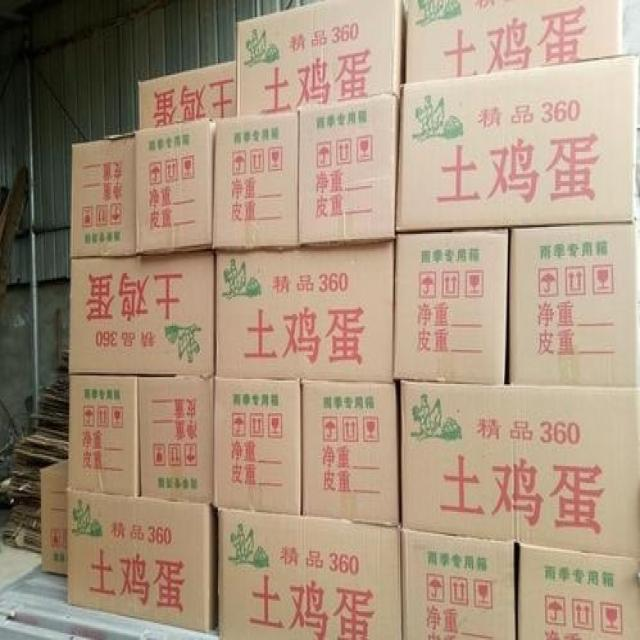box: (395, 55, 638, 233), (400, 380, 639, 558), (215, 241, 394, 383), (218, 508, 401, 638), (505, 222, 637, 388), (67, 488, 218, 633), (236, 0, 407, 116), (68, 249, 215, 374), (393, 228, 509, 384), (406, 0, 622, 83), (299, 95, 400, 247), (301, 380, 399, 526), (401, 526, 516, 638), (211, 110, 300, 251), (213, 376, 302, 515), (516, 544, 639, 638), (133, 117, 215, 255), (137, 374, 215, 504), (69, 374, 140, 496), (70, 133, 136, 257), (139, 62, 236, 130), (41, 459, 70, 576)
